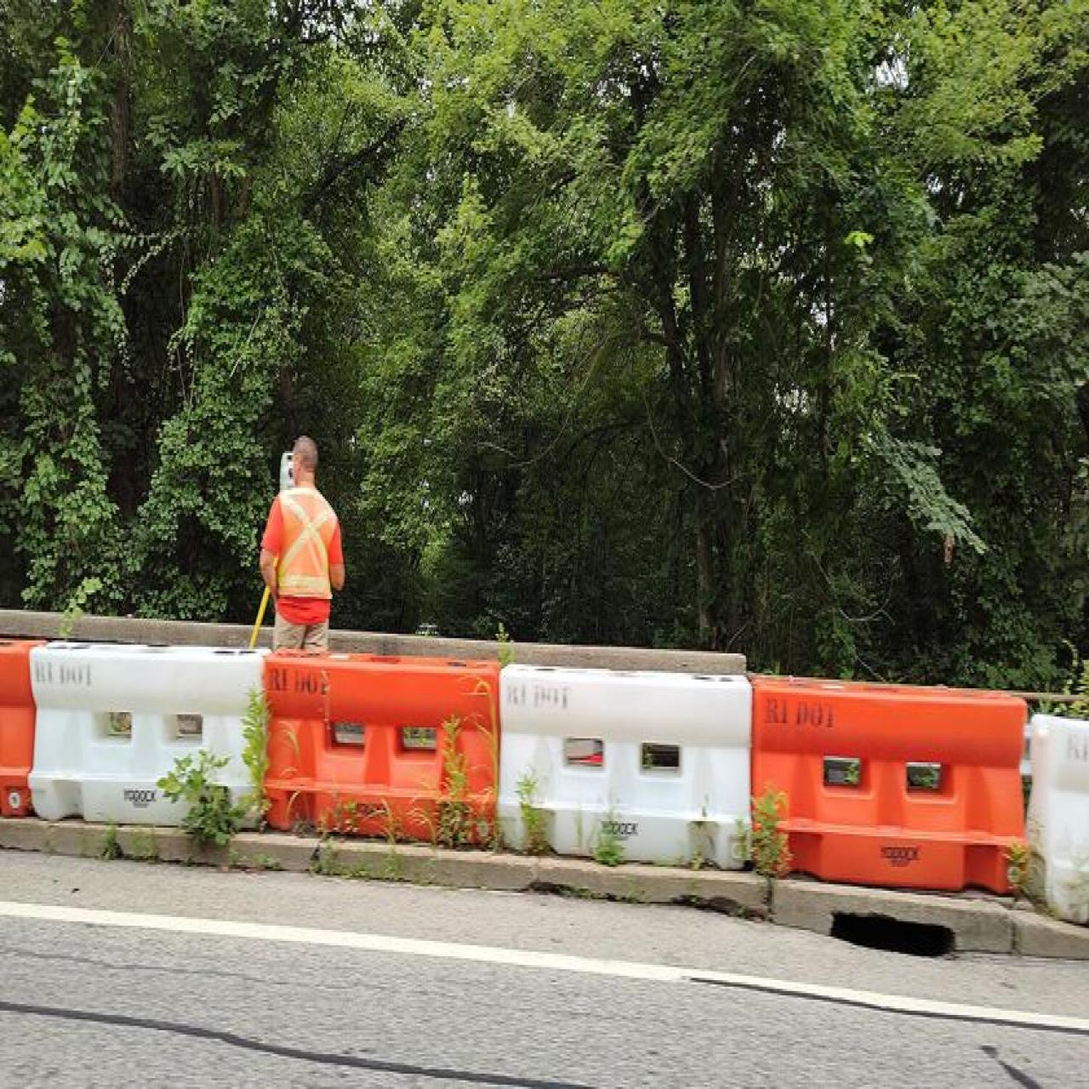Person: (259, 428, 354, 662)
Safety_Vest: (274, 486, 334, 608)
